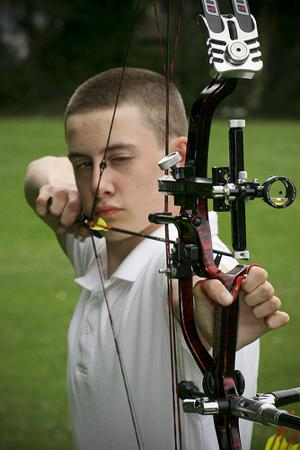person: (24, 66, 290, 449)
